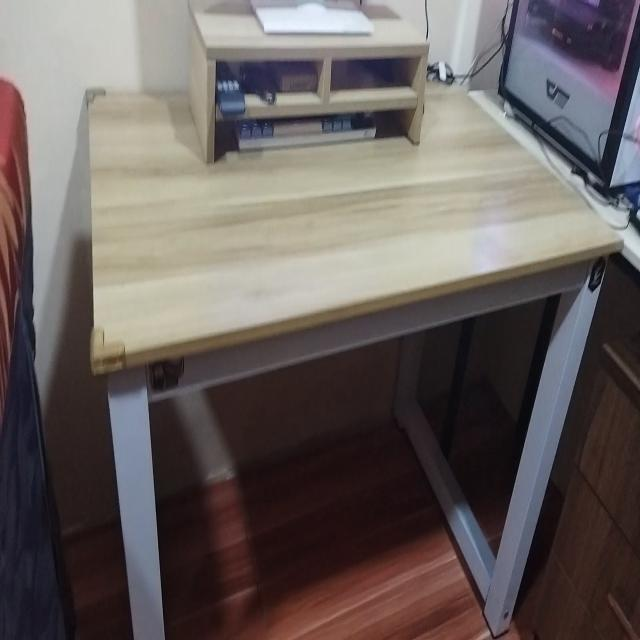table: (81, 67, 621, 640)
